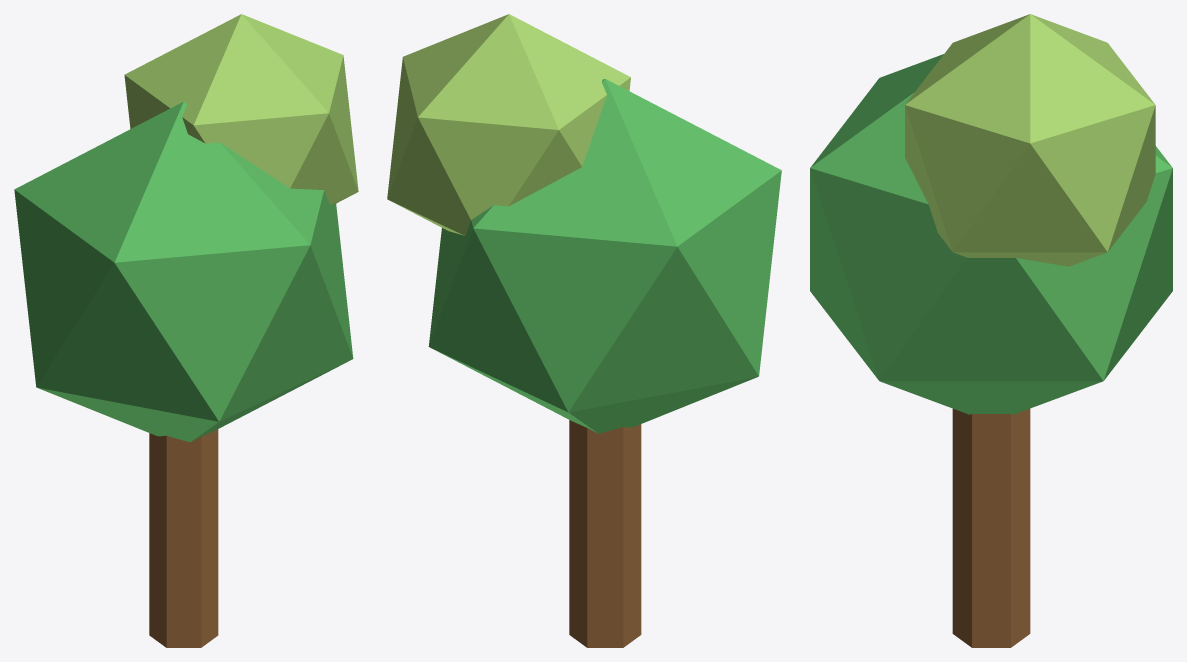
File: tree_round.glb
The picture shows the model from 3 angles, left to right: view 1: azimuth 30°, elevation 25°; view 2: azimuth 150°, elevation 25°; view 3: azimuth 270°, elevation 25°; orthographic projection. The views are drawn at different scales.
Parts seen in each view (by area): view 1: tree_round; view 2: tree_round; view 3: tree_round.
Boxes of the visible parts, x1,y1,x2,y2 form: tree_round: (14,14,358,647); tree_round: (387,14,781,647); tree_round: (810,14,1172,647).
Bounding box in the file's own units: 1.08 × 1.88 × 0.9357.
1 material, 1 textured.
